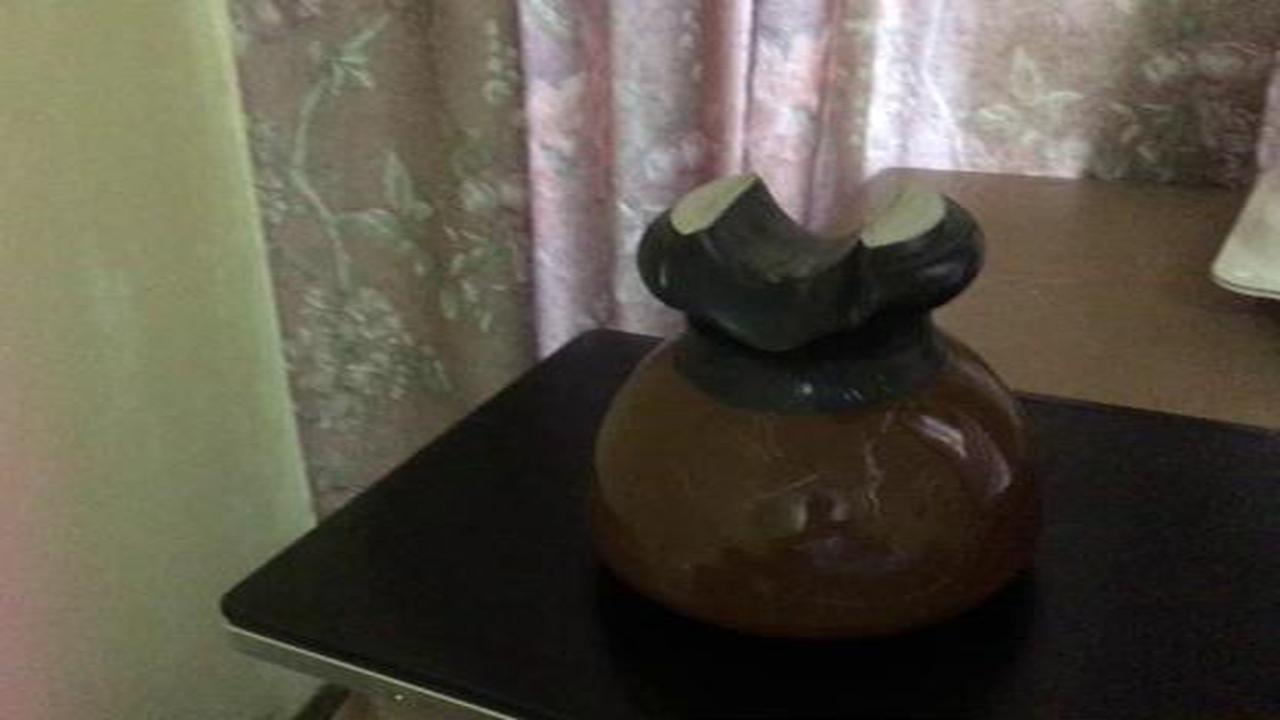insulator_pin: (564, 163, 1065, 653)
